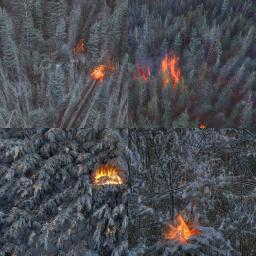Small fire: (134, 49, 186, 100), (157, 207, 212, 250), (72, 43, 116, 87), (79, 162, 131, 192)
